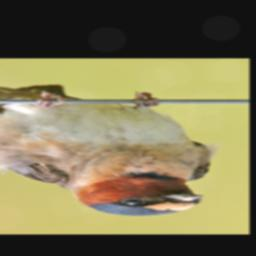Swallow: (0, 83, 220, 217)
